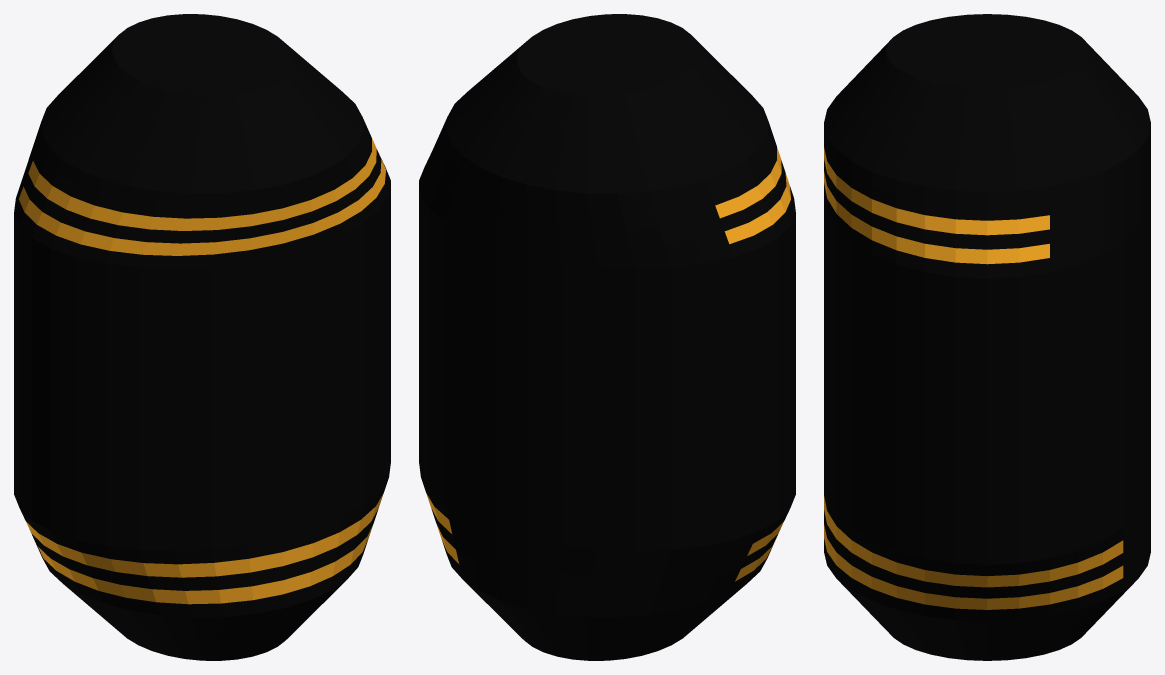
Rendered from Barrel.fbx.
The picture shows the model from 3 angles, left to right: view 1: azimuth 30°, elevation 25°; view 2: azimuth 150°, elevation 25°; view 3: azimuth 270°, elevation 25°; orthographic projection.
Visible parts, largest first — view 1: Cube; view 2: Cube; view 3: Cube.
Part boxes in pixels (box(x1,y1,x2,y2)): Cube: box(14, 14, 390, 660); Cube: box(419, 14, 795, 660); Cube: box(824, 14, 1150, 660).
Size of the model in its own units: 244 by 386 by 200.
